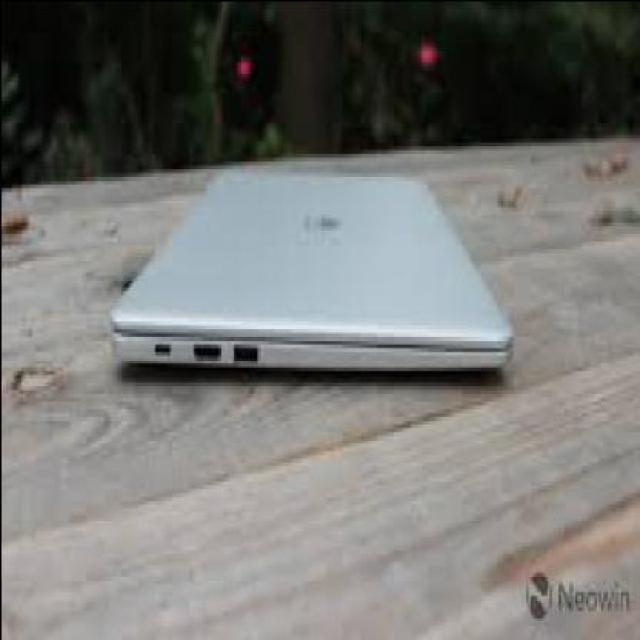laptop: (108, 168, 515, 373)
